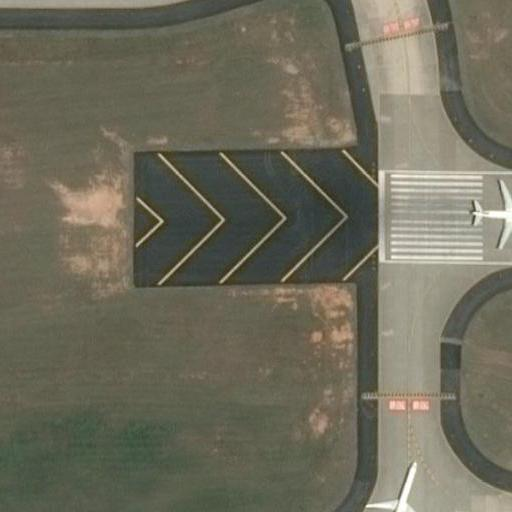Aircraft: (362, 459, 432, 512), (464, 181, 512, 249)
